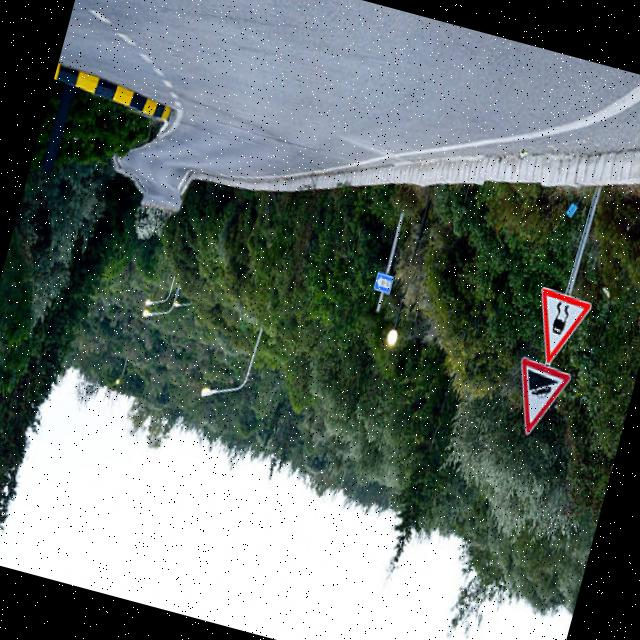road_slippery: (524, 279, 594, 370)
